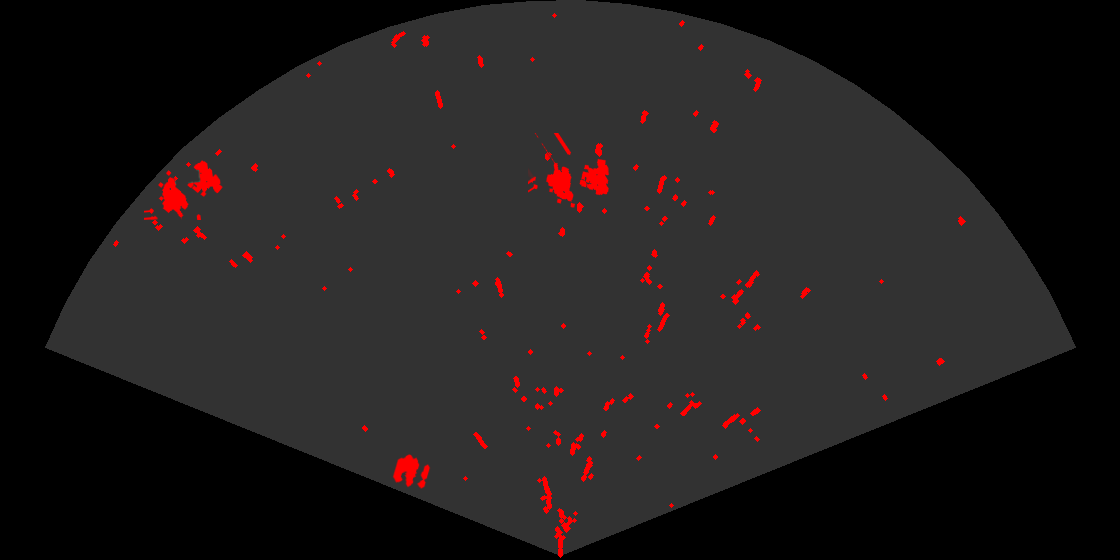ball: (391, 453, 432, 490)
cage: (528, 133, 611, 209), (144, 159, 224, 220)
